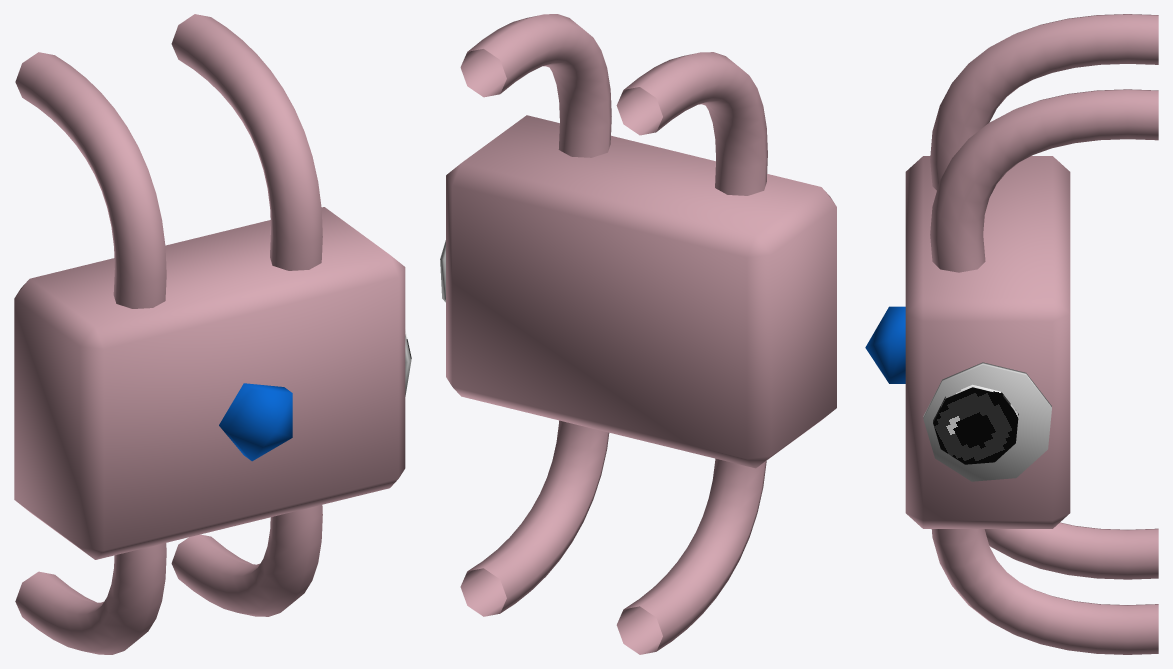
Rendered from FlowPhant.fbx.
The picture shows the model from 3 angles, left to right: view 1: azimuth 30°, elevation 25°; view 2: azimuth 150°, elevation 25°; view 3: azimuth 270°, elevation 25°; orthographic projection.
Visible parts, largest first — view 1: ArmTopRight_001, ArmTopRight, Player; view 2: ArmTopRight_001, ArmTopRight; view 3: ArmTopRight, ArmTopRight_001, EyeWhite, Retina, Player.
Boxes of the visible parts, left/top/right/bottom form: ArmTopRight_001: left=14, top=207, right=405, bottom=559; ArmTopRight: left=15, top=14, right=322, bottom=654; Player: left=219, top=383, right=292, bottom=461; ArmTopRight_001: left=446, top=115, right=836, bottom=468; ArmTopRight: left=460, top=14, right=767, bottom=654; ArmTopRight: left=930, top=14, right=1158, bottom=654; ArmTopRight_001: left=905, top=156, right=1070, bottom=528; EyeWhite: left=923, top=362, right=1051, bottom=481; Retina: left=933, top=384, right=1018, bottom=464; Player: left=865, top=306, right=905, bottom=383.
Size of the model in its own units: 0.0302 by 0.0489 by 0.023.
4 materials, 1 textured.
